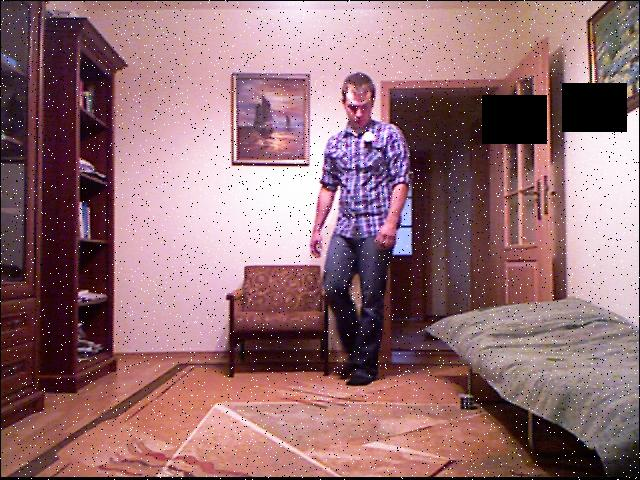walking: (310, 63, 418, 391)
